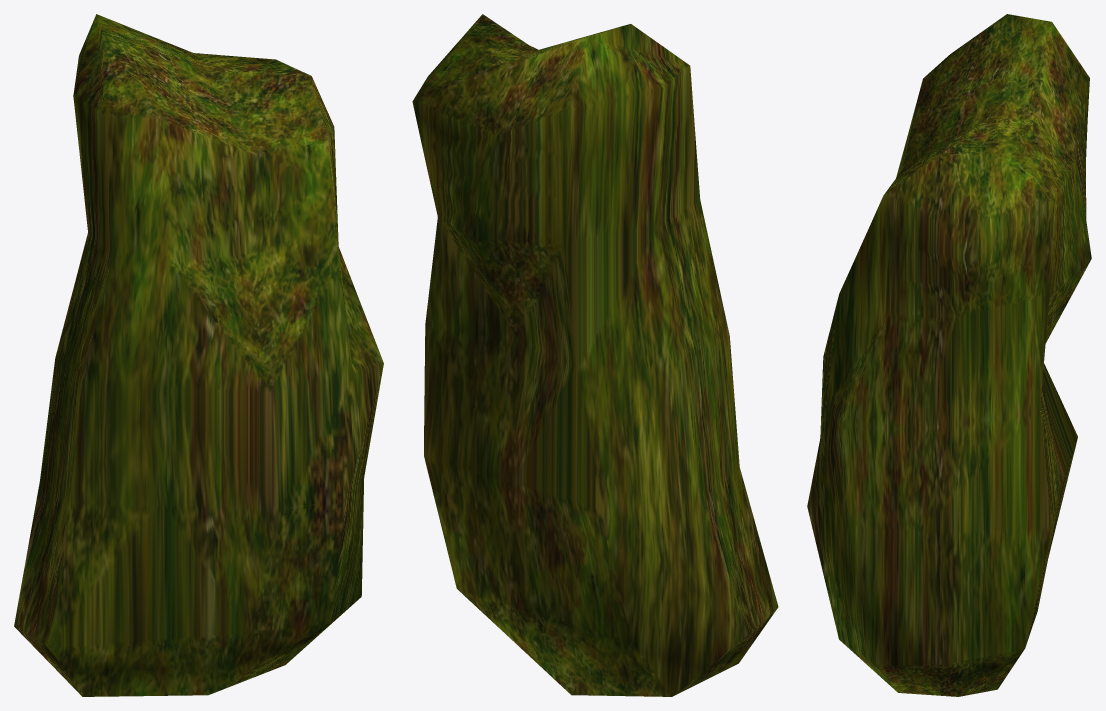
File: TROLLHOLE02_RM_PSURF91.fbx
The picture shows the model from 3 angles, left to right: view 1: azimuth 30°, elevation 25°; view 2: azimuth 150°, elevation 25°; view 3: azimuth 270°, elevation 25°; orthographic projection. The views are drawn at different scales.
Parts seen in each view (by area): view 1: TROLLHOLE02_RM_PSURF91; view 2: TROLLHOLE02_RM_PSURF91; view 3: TROLLHOLE02_RM_PSURF91.
Part boxes in pixels (<box>): TROLLHOLE02_RM_PSURF91: <box>14,14,383,696</box>; TROLLHOLE02_RM_PSURF91: <box>412,14,778,696</box>; TROLLHOLE02_RM_PSURF91: <box>807,14,1091,696</box>.
Size of the model in its own units: 57710 by 114661 by 45758.
Materials: 1 (1 with a texture image).
